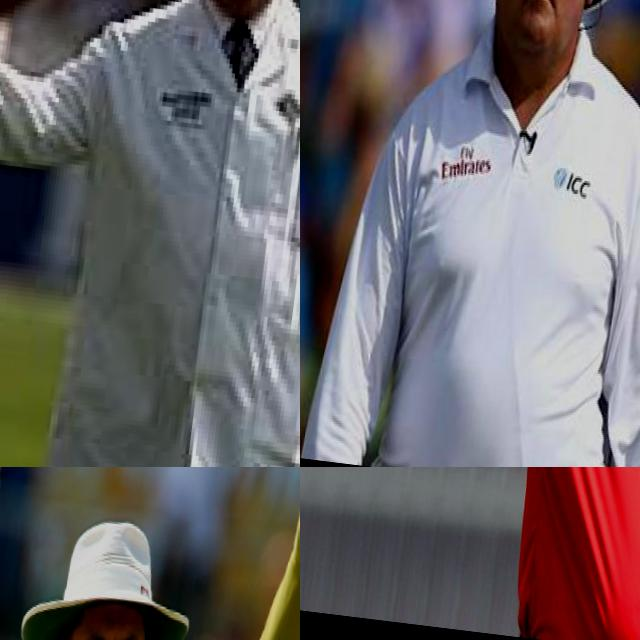No_Action: (300, 0, 640, 467)
No_Ball: (300, 467, 640, 640)
Six: (0, 467, 300, 640)
Wide: (0, 0, 300, 467)
